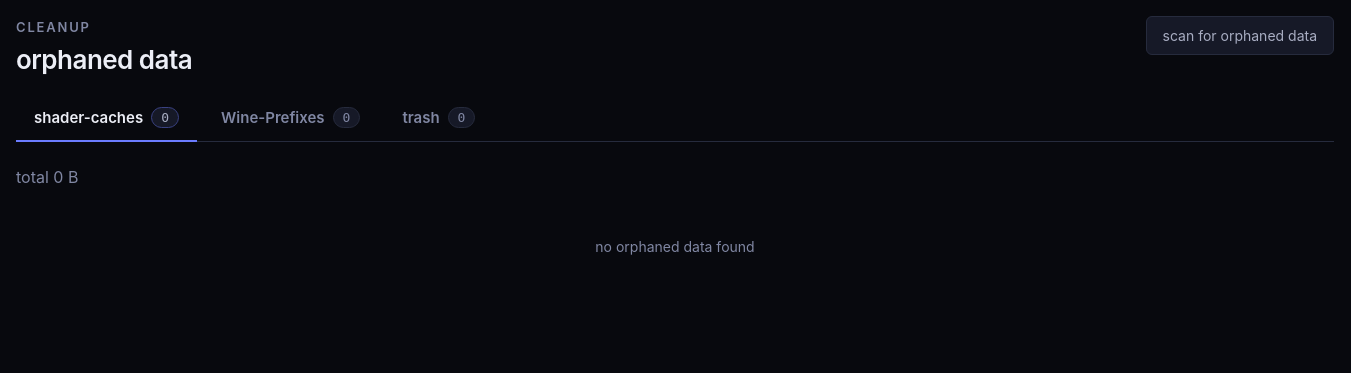
CleanupView incomplete deletions › blockiert den trash-leerzustand bei unbekannten einträgen
Click the tab with id "cv-tab-trash": (439, 118) [384,94,493,142]
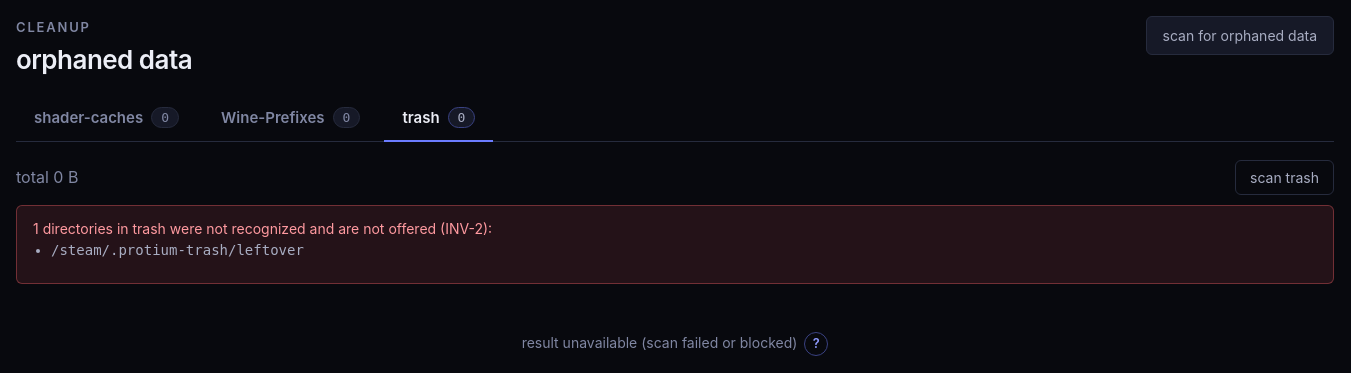
Expected: the panel with id "cv-panel-trash" shows "result unavailable (scan failed or blocked)", [522,334,797,351]
